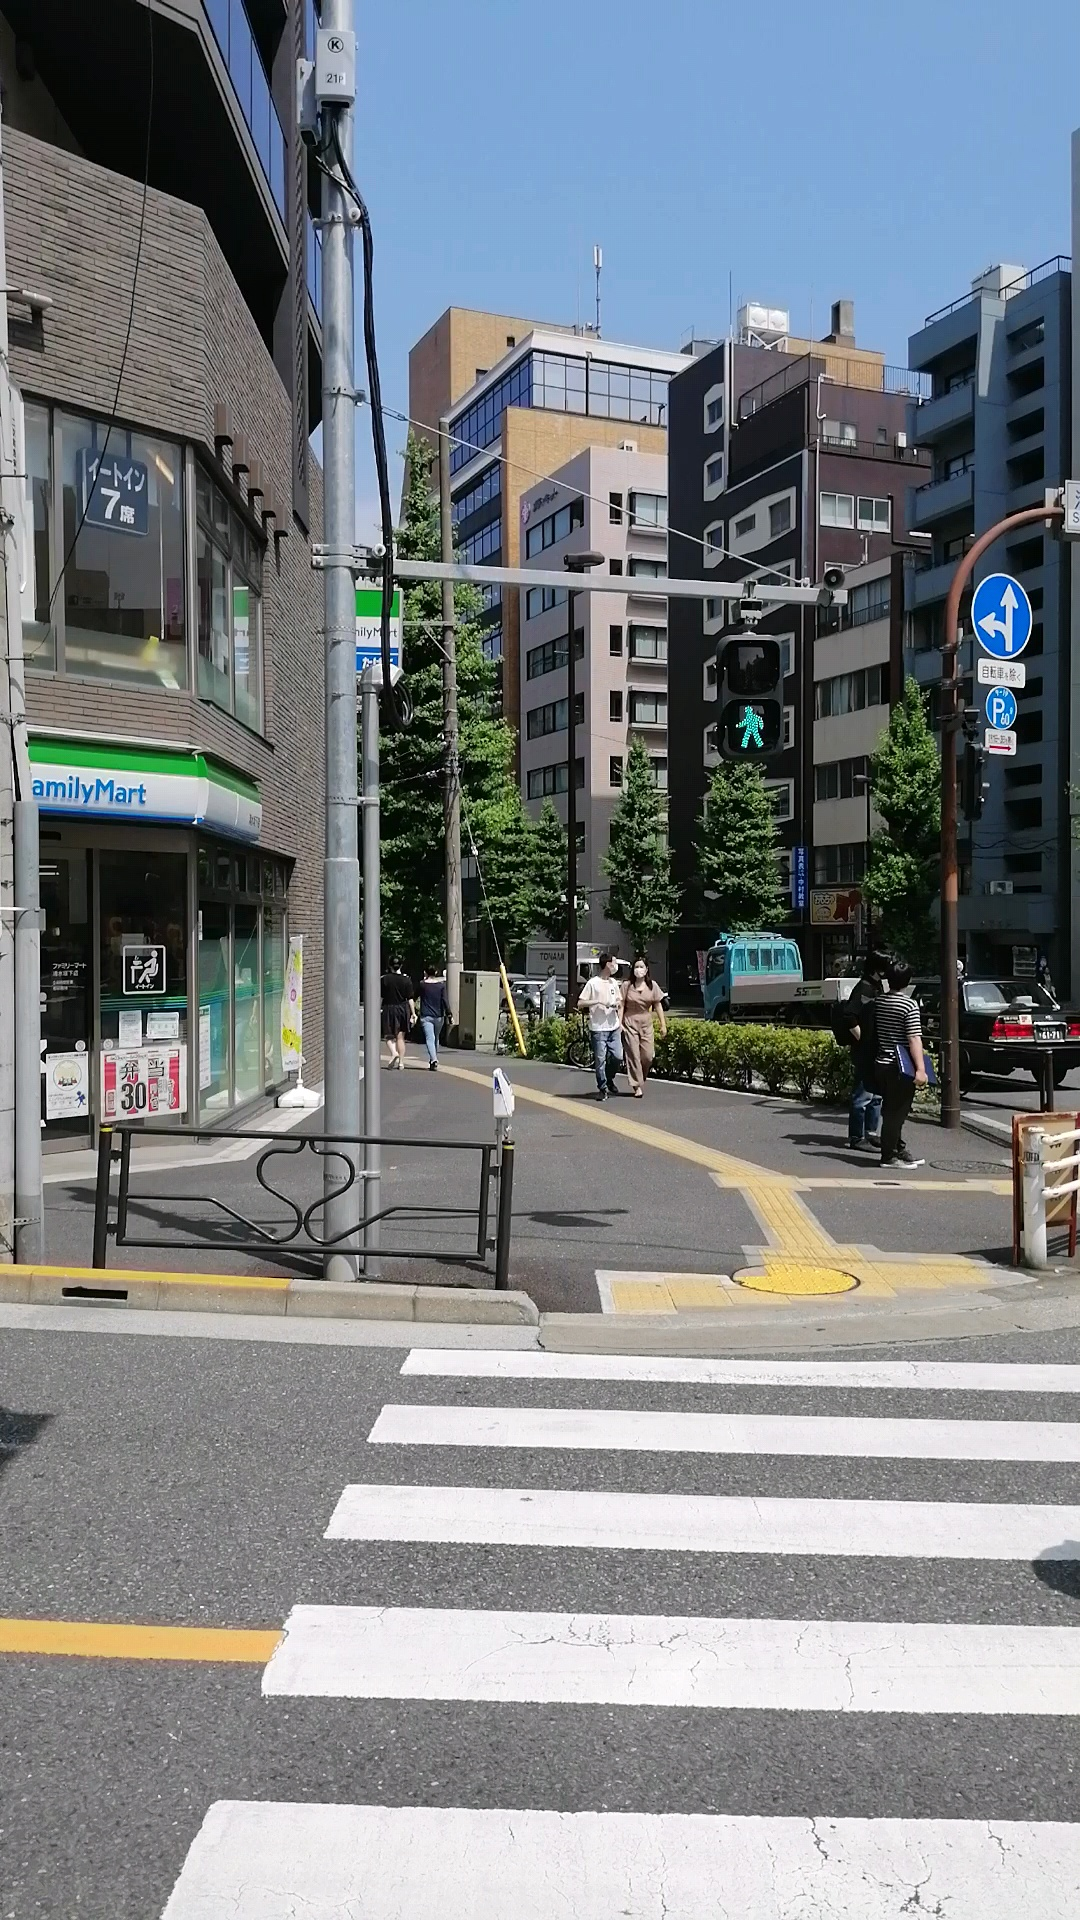green: (715, 634, 782, 762)
